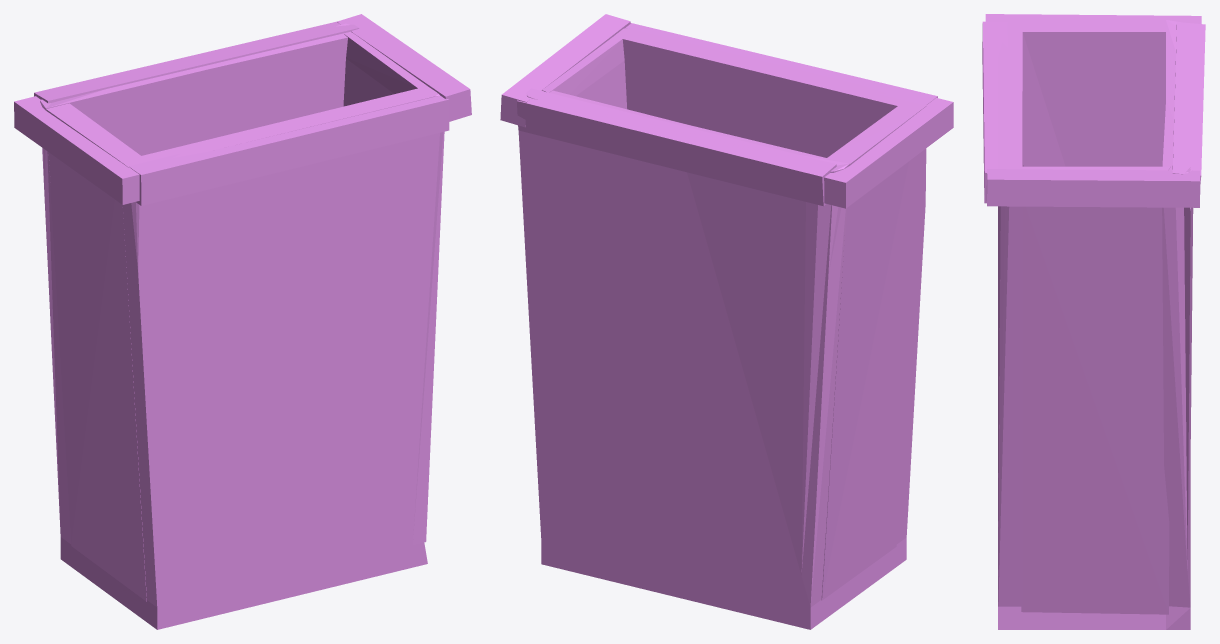
Rendered from bin_pink.glb.
The picture shows the model from 3 angles, left to right: view 1: azimuth 30°, elevation 25°; view 2: azimuth 150°, elevation 25°; view 3: azimuth 270°, elevation 25°; orthographic projection.
Parts seen in each view (by area): view 1: group954169556.001; view 2: group954169556.001; view 3: group954169556.001.
Part boxes in pixels (left/top/right/bottom): group954169556.001: left=14, top=14, right=471, bottom=629; group954169556.001: left=500, top=14, right=953, bottom=629; group954169556.001: left=982, top=14, right=1205, bottom=629.
Size of the model in its own units: 2.66 by 3.41 by 1.48.
